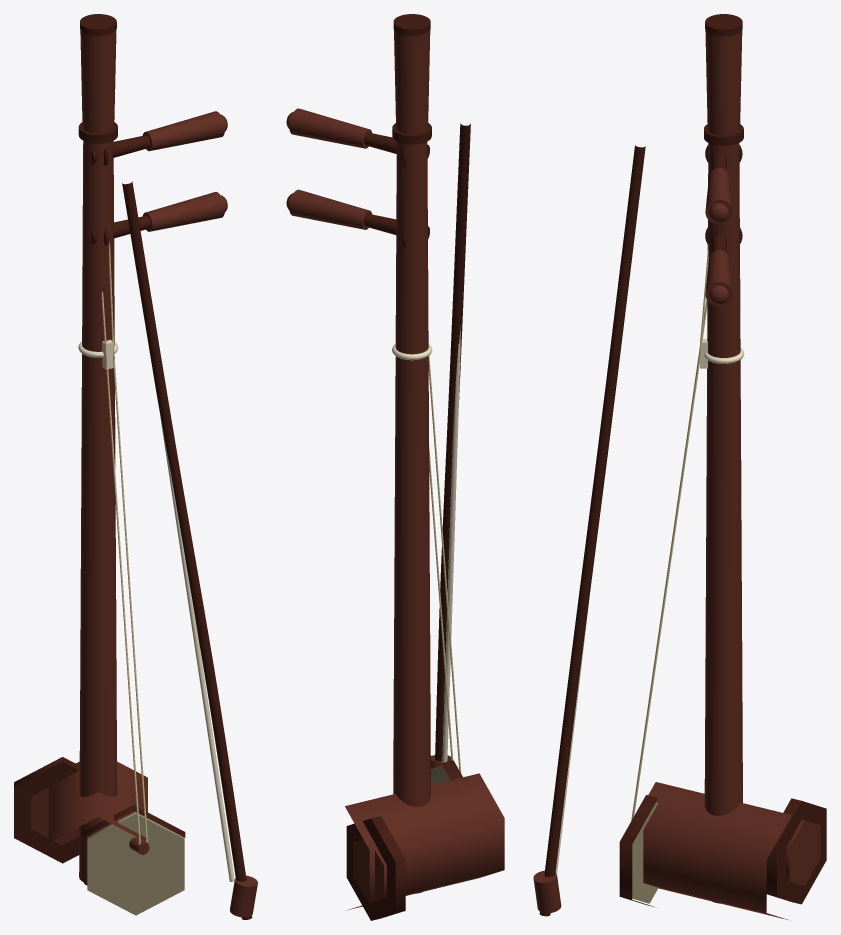
File: dan-nhi.glb
3 views of the same model, side by side, from view 1: azimuth 30°, elevation 25°; view 2: azimuth 150°, elevation 25°; view 3: azimuth 270°, elevation 25° (orthographic).
Parts seen in each view (by area): view 1: neck, bow_stick, skin_face, body_shell, neck_head, back_ring, bow_hair, peg_grip_2, peg_grip_1, string_1_speaking, string_2_speaking, back_window (+4 smaller); view 2: neck, body_shell, bow_stick, neck_head, back_ring, bow_hair, peg_grip_2, peg_grip_1, back_window, string_1_speaking, string_2_speaking, head_cap (+3 smaller); view 3: neck, body_shell, bow_stick, neck_head, back_ring, back_window, skin_rim, string_2_speaking, skin_face, peg_grip_1, peg_grip_2, bow_frog (+1 smaller).
Boxes of the visible parts, x1,y1,x2,y2 form: neck: [79, 140, 117, 883]; bow_stick: [122, 181, 252, 919]; skin_face: [87, 812, 184, 915]; body_shell: [48, 761, 147, 842]; neck_head: [80, 30, 116, 133]; back_ring: [14, 757, 79, 863]; bow_hair: [158, 404, 234, 881]; peg_grip_2: [142, 111, 224, 151]; peg_grip_1: [142, 192, 224, 231]; string_1_speaking: [105, 357, 140, 843]; string_2_speaking: [113, 355, 147, 841]; back_window: [31, 787, 79, 845]; neck: [393, 141, 430, 806]; body_shell: [345, 773, 504, 910]; bow_stick: [435, 123, 470, 760]; neck_head: [394, 30, 430, 134]; back_ring: [346, 816, 405, 920]; bow_hair: [442, 327, 460, 762]; peg_grip_2: [289, 108, 372, 148]; peg_grip_1: [289, 189, 371, 229]; back_window: [353, 839, 386, 902]; string_1_speaking: [428, 356, 461, 773]; string_2_speaking: [429, 444, 453, 760]; head_cap: [393, 14, 430, 35]; neck: [704, 143, 742, 815]; body_shell: [643, 782, 791, 919]; bow_stick: [539, 145, 645, 916]; neck_head: [705, 30, 742, 135]; back_ring: [766, 798, 826, 904]; back_window: [786, 819, 820, 885]; skin_rim: [619, 795, 658, 907]; string_2_speaking: [632, 355, 700, 819]; skin_face: [632, 802, 658, 903]; peg_grip_1: [705, 250, 732, 306]; peg_grip_2: [705, 168, 732, 224]; bow_frog: [533, 870, 561, 913].
Size of the model in its own units: 0.1935 by 0.8186 by 0.2458.
